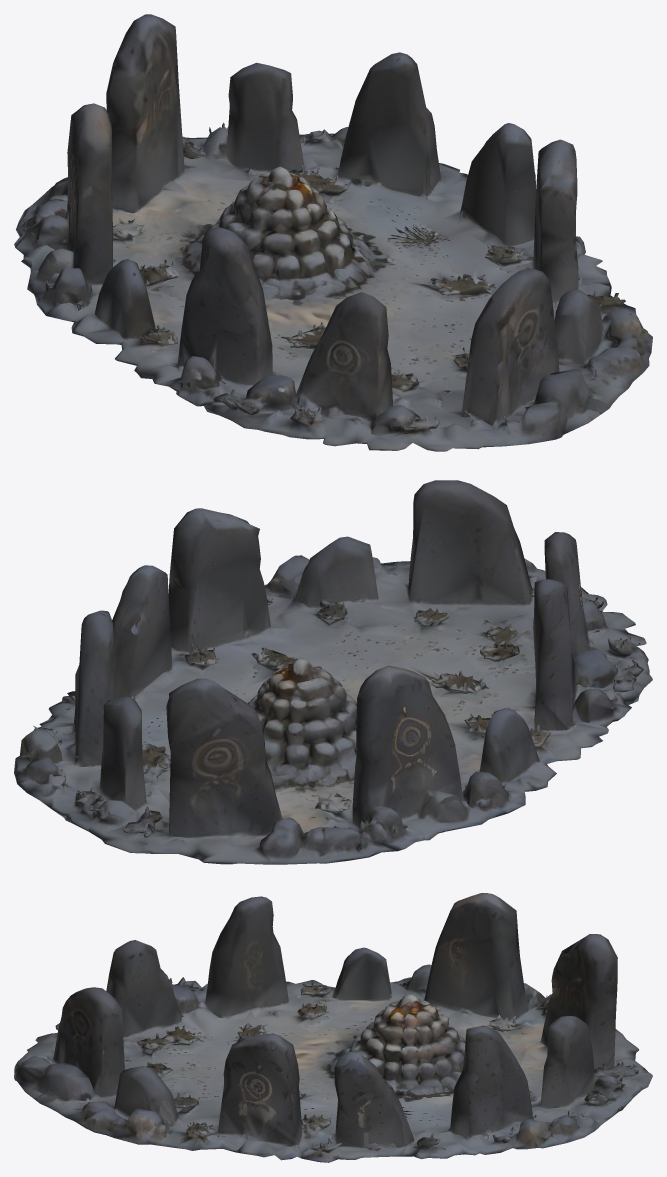
The picture shows the model from 3 angles, top to bottom: view 1: azimuth 30°, elevation 25°; view 2: azimuth 150°, elevation 25°; view 3: azimuth 270°, elevation 25°; orthographic projection. The views are drawn at different scales.
Parts seen in each view (by area): view 1: tripo_node_ebf94846-42c0-4d96-8281-36153225d0da; view 2: tripo_node_ebf94846-42c0-4d96-8281-36153225d0da; view 3: tripo_node_ebf94846-42c0-4d96-8281-36153225d0da.
Part boxes in pixels (x1,y1,x2,y2): tripo_node_ebf94846-42c0-4d96-8281-36153225d0da: [14, 14, 652, 451]; tripo_node_ebf94846-42c0-4d96-8281-36153225d0da: [14, 480, 652, 864]; tripo_node_ebf94846-42c0-4d96-8281-36153225d0da: [14, 893, 652, 1162].
Size of the model in its own units: 2.47 by 0.8104 by 3.6.
Materials: 1 (1 with a texture image).
